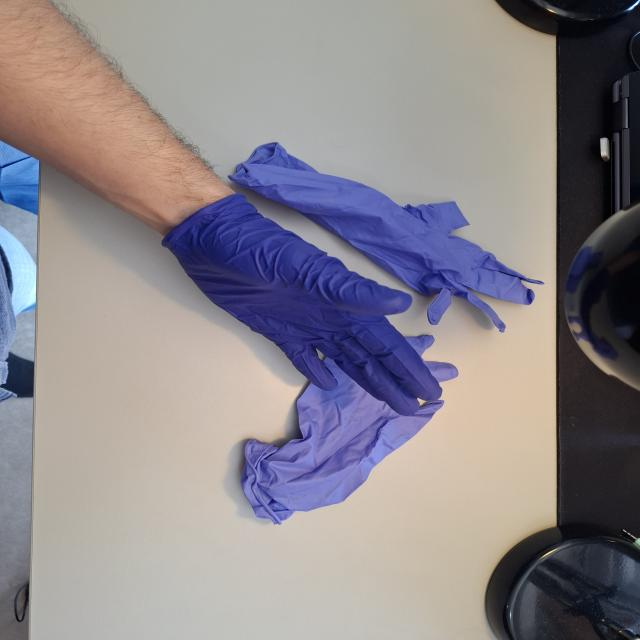glove_on: (160, 191, 445, 417)
